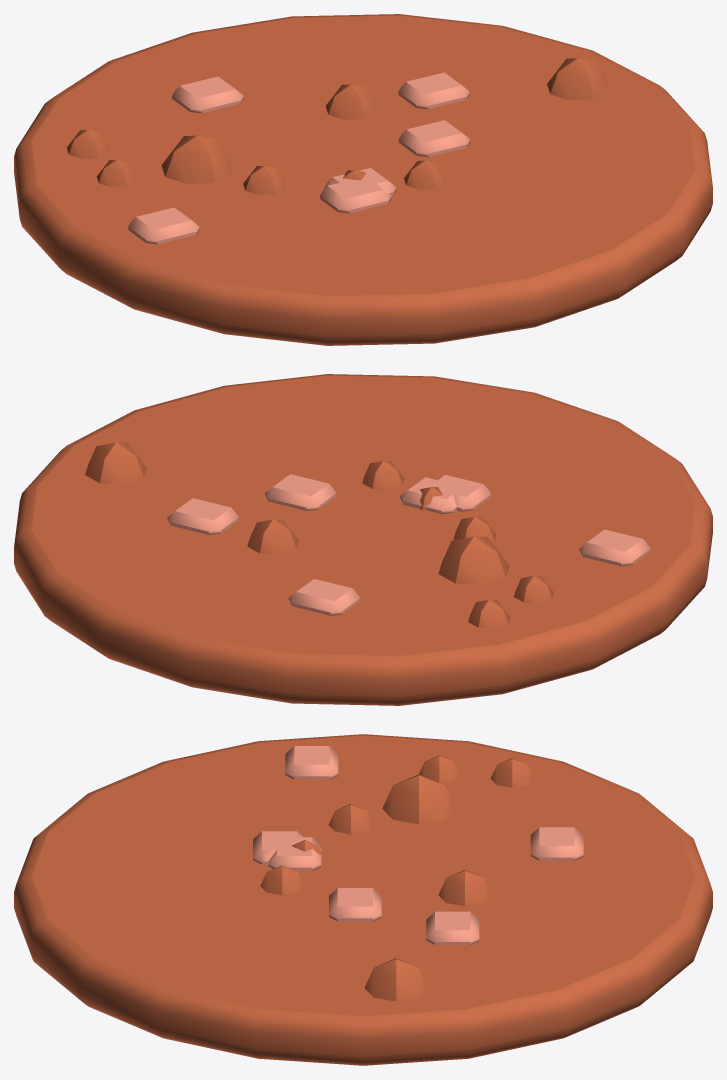
File: kr_soup_tomato.glb
3 renders of one model, top to bottom at view 1: azimuth 30°, elevation 25°; view 2: azimuth 150°, elevation 25°; view 3: azimuth 270°, elevation 25°, orthographic.
Parts seen in each view (by area): view 1: vc_m0_r2, vc_m0_r4; view 2: vc_m0_r2, vc_m0_r4; view 3: vc_m0_r2, vc_m0_r4.
Part boxes in pixels (left/top/right/bottom): vc_m0_r2: left=14, top=14, right=712, bottom=345; vc_m0_r4: left=128, top=72, right=470, bottom=244; vc_m0_r2: left=14, top=374, right=712, bottom=705; vc_m0_r4: left=167, top=474, right=650, bottom=615; vc_m0_r2: left=14, top=734, right=712, bottom=1065; vc_m0_r4: left=253, top=746, right=583, bottom=944.
Bounding box in the file's own units: 0.396 × 0.0508 × 0.396.
